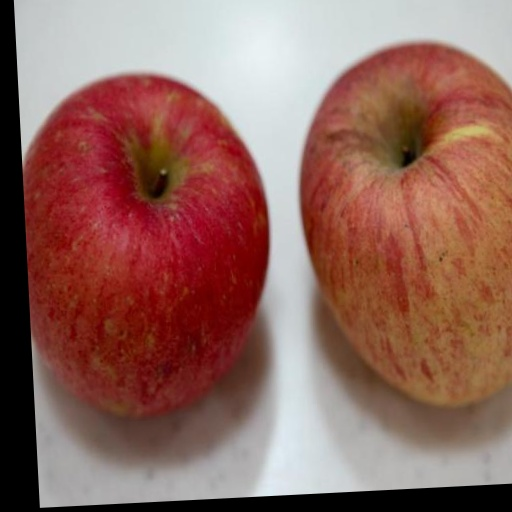fruit: (23, 75, 268, 416), (300, 44, 512, 405)
